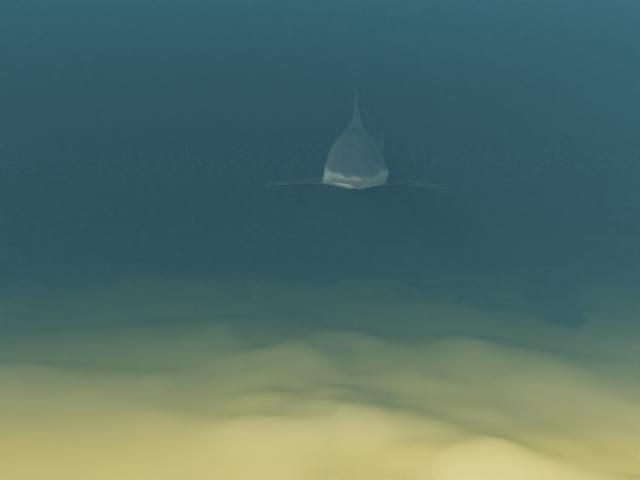Carribean Shark.001: (262, 89, 450, 189)
